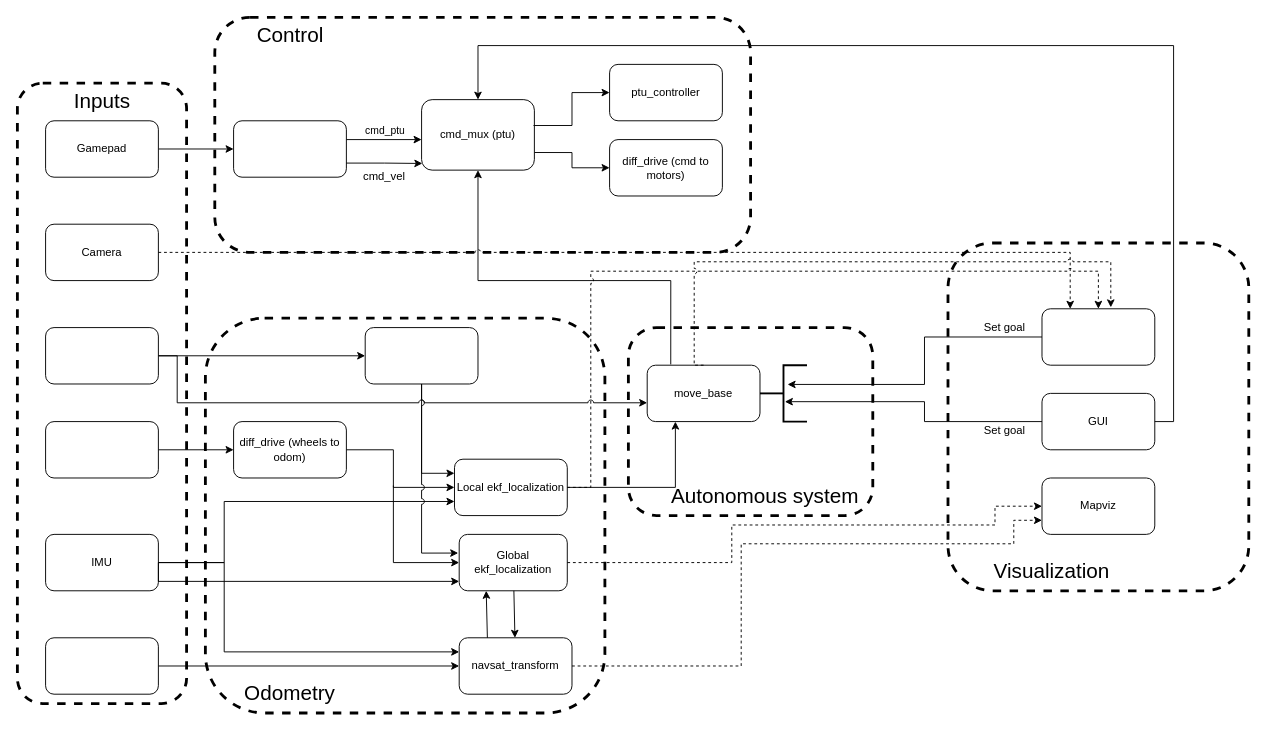
The diagram is 1266 pixels wide and 730 high, and some of its shapes have lost their labels. Here are the shapes that lost their labels. From the top down, the box of each, then its label:
(233, 120, 346, 177): teleop_joystick
(45, 327, 158, 384): RGBD Camera
(364, 327, 478, 384): icp_odometry
(1041, 308, 1155, 365): RVIZ
(45, 421, 158, 478): Wheel encoders
(45, 637, 158, 694): GPS
